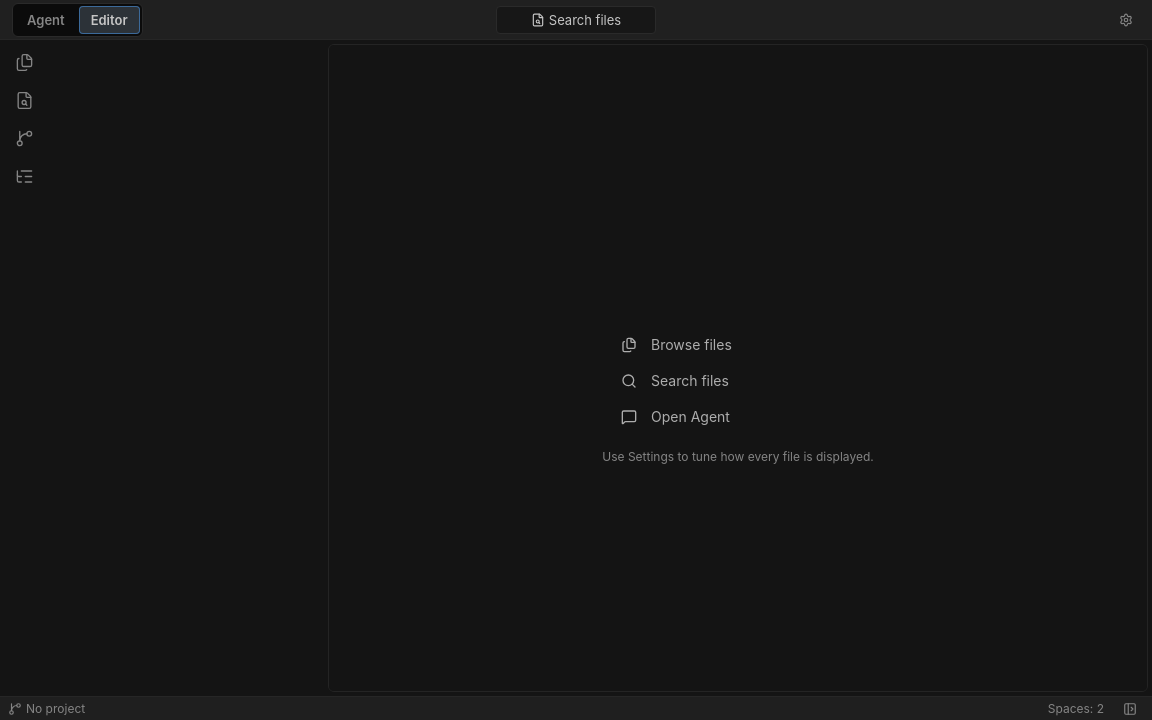
Test case: compact Workbench project tools › keeps an empty Agent resource pane collapsed until the user opens it
Click the radio button labelled "Agent" at point(46, 20), box top-left (27, 12), bottom-right (65, 28)
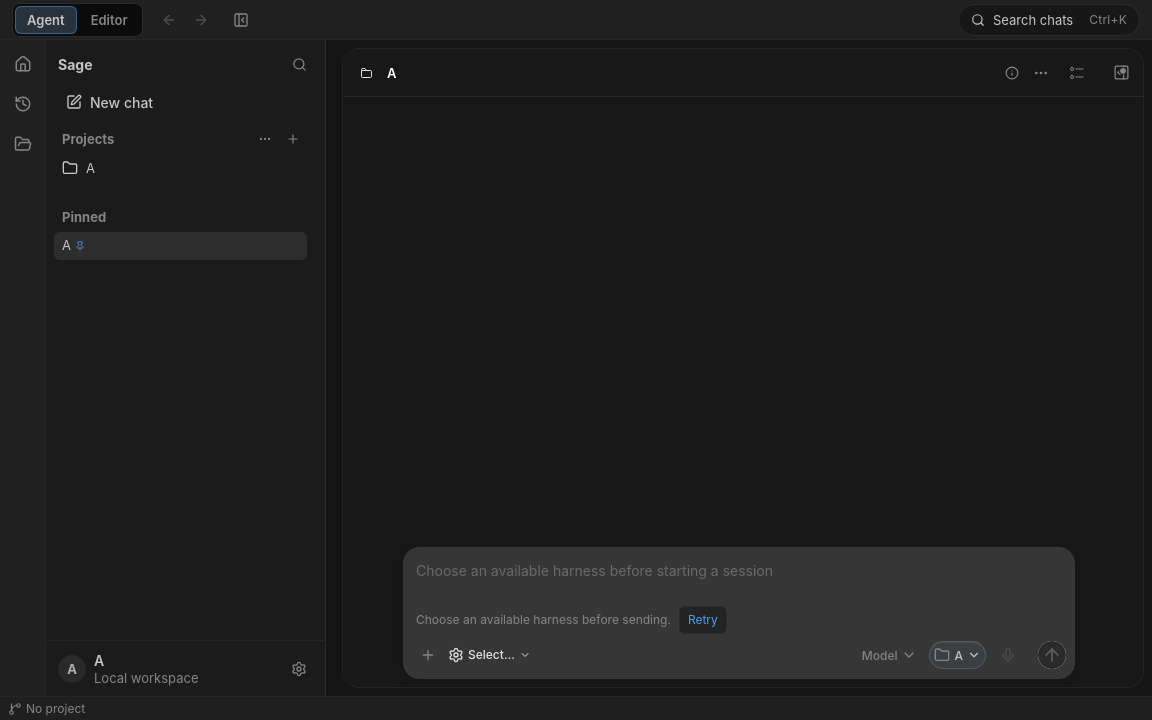
Now the button named "Show files and preview · Waiting" is shown
Click the button named "Show files and preview · Waiting" at point(1121, 72), box top-left (1107, 58), bottom-right (1135, 86)
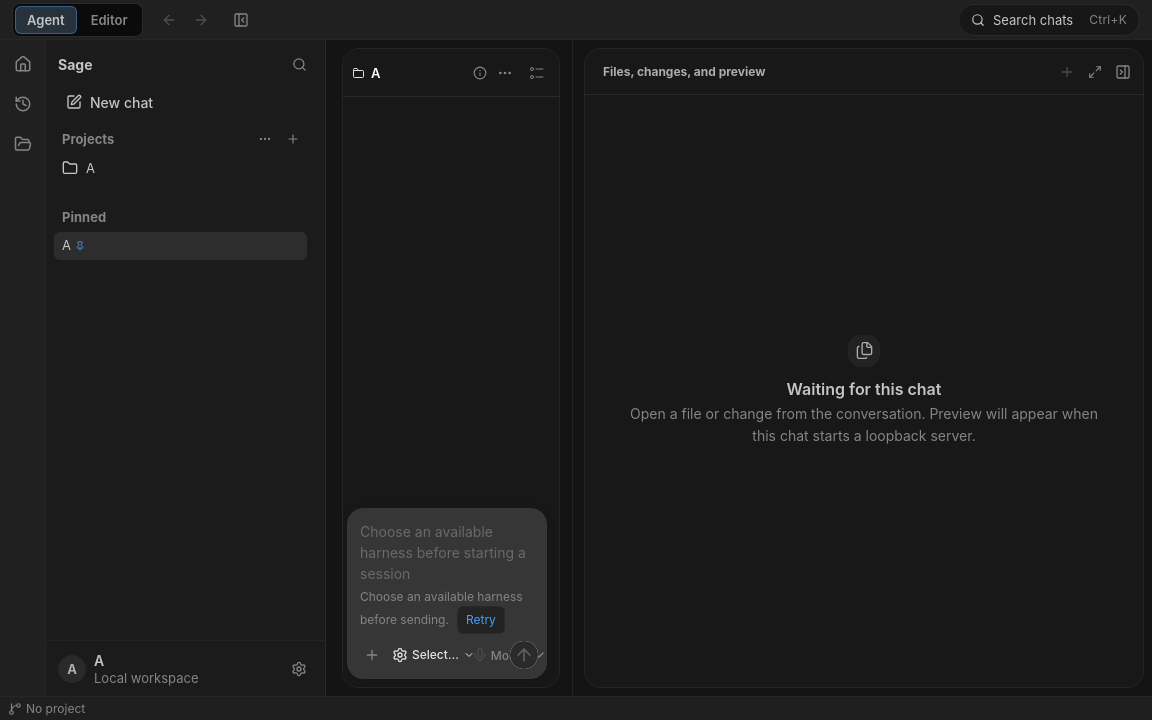
Now the button named "Collapse files, changes, and preview" is shown, box top-left (1109, 49), bottom-right (1137, 94)
